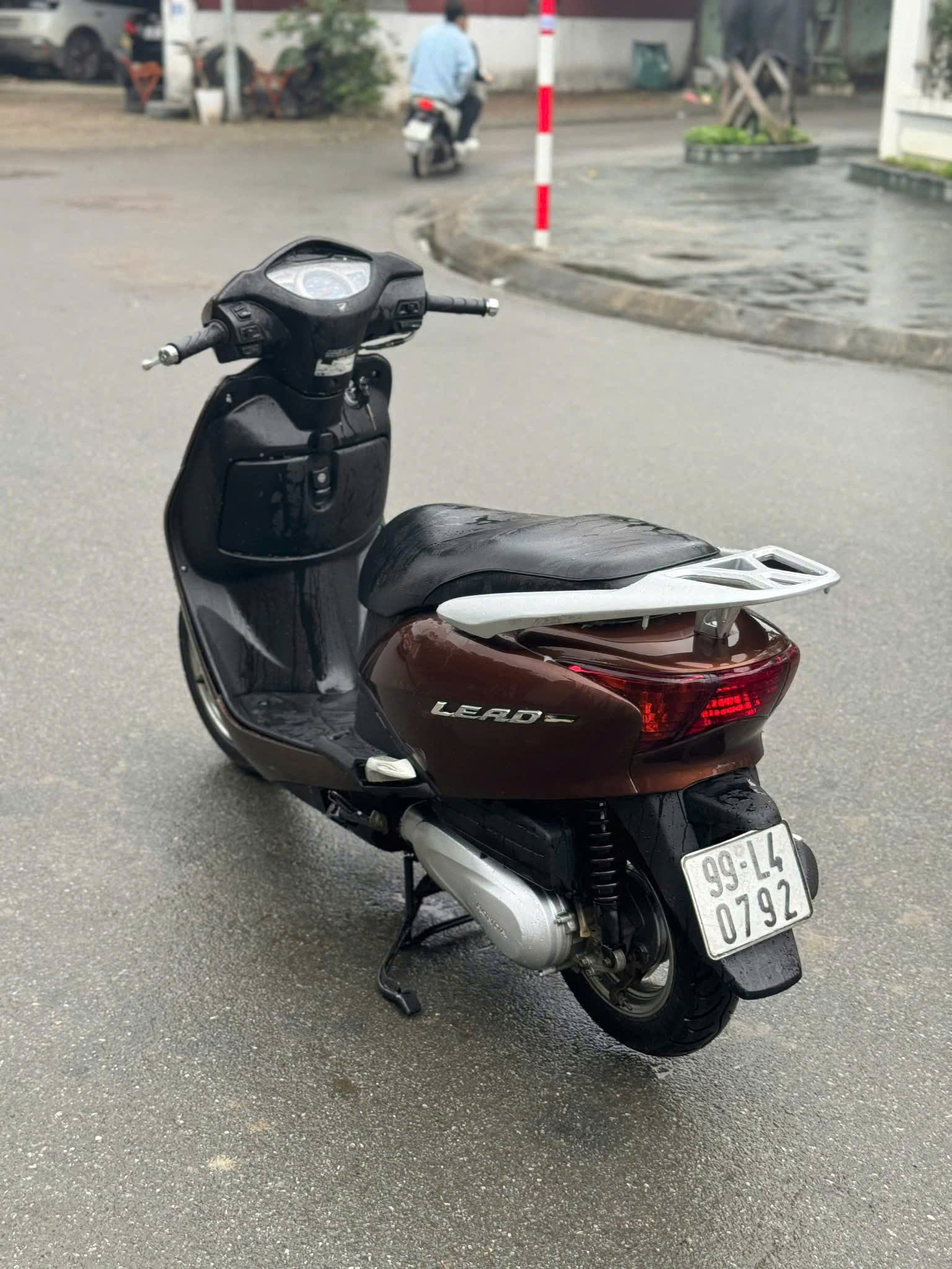Bien-so: (674, 816, 819, 968)
